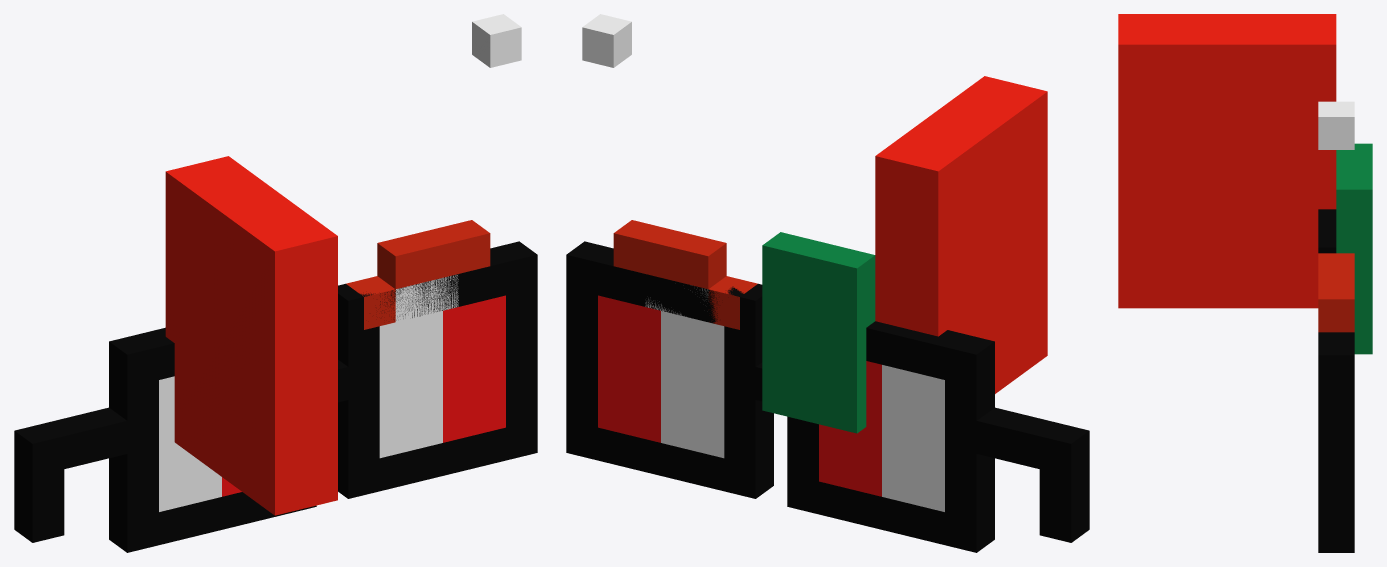
Rendered from cherry.glb.
3 renders of one model, left to right at view 1: azimuth 30°, elevation 25°; view 2: azimuth 150°, elevation 25°; view 3: azimuth 270°, elevation 25°, orthographic.
Parts seen in each view (by area): view 1: extremite, glasses, layer-2, base; view 2: glasses, extremite, layer-2, l4, base, l3, branch2, zz; view 3: extremite, glasses, l4, base.
Boxes of the visible parts, left/top/right/bottom form: extremite: left=165, top=156, right=337, bottom=515; glasses: left=14, top=241, right=537, bottom=552; layer-2: left=159, top=295, right=505, bottom=511; base: left=346, top=14, right=521, bottom=329; glasses: left=566, top=241, right=1089, bottom=552; extremite: left=875, top=76, right=1047, bottom=393; layer-2: left=598, top=295, right=944, bottom=511; l4: left=762, top=232, right=875, bottom=431; base: left=582, top=14, right=757, bottom=329; l3: left=794, top=319, right=856, bottom=432; branch2: left=825, top=360, right=866, bottom=433; zz: left=831, top=328, right=866, bottom=431; extremite: left=1118, top=14, right=1336, bottom=308; glasses: left=1318, top=209, right=1354, bottom=552; l4: left=1336, top=143, right=1372, bottom=354; base: left=1318, top=101, right=1354, bottom=332.
Size of the model in its own units: 16 by 13 by 7.
Materials: 9 (9 with a texture image).
